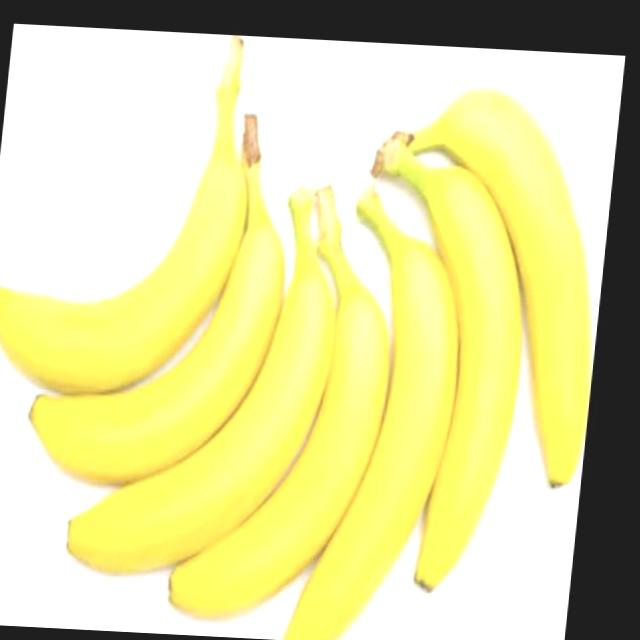Banana: (332, 78, 621, 599), (26, 102, 306, 494), (0, 23, 269, 404), (236, 172, 433, 640)
